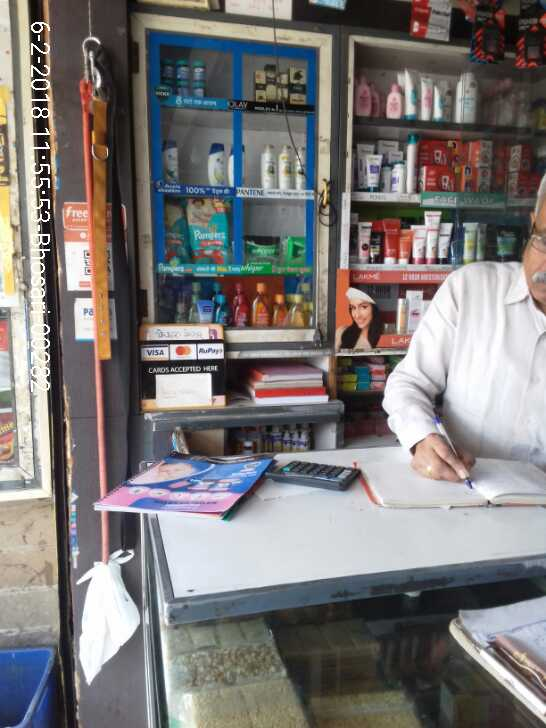vicks: (174, 60, 210, 99)
